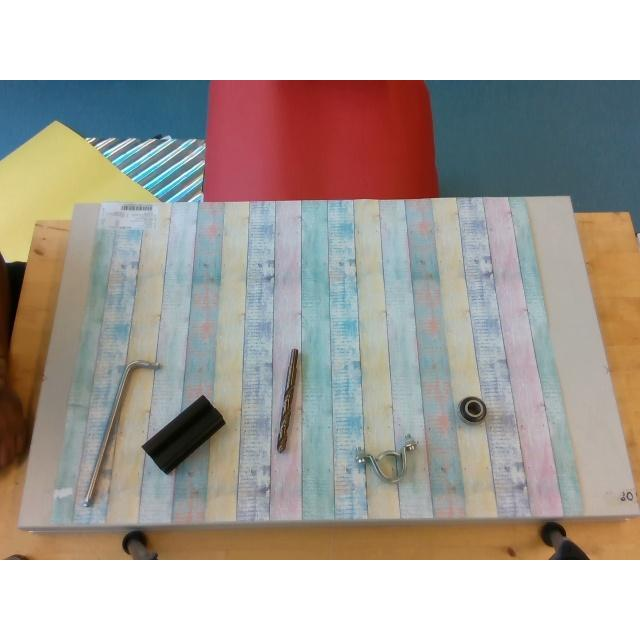AllenKey: (84, 356, 164, 504)
Bearing2: (458, 396, 486, 422)
Drill: (276, 348, 300, 452)
Housing: (355, 439, 417, 483)
S40_40_B: (142, 395, 224, 473)
